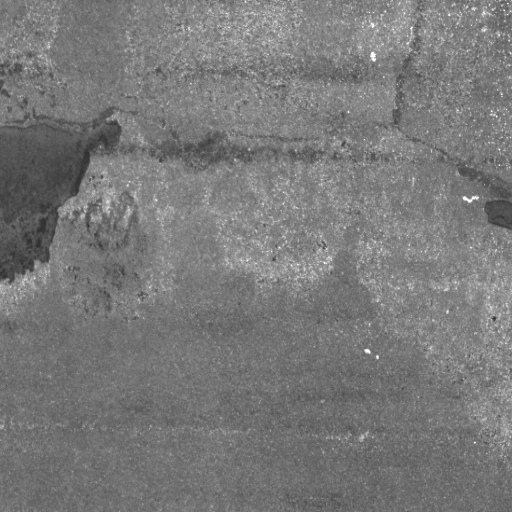aokeng: (1, 116, 122, 281), (485, 195, 512, 232)
